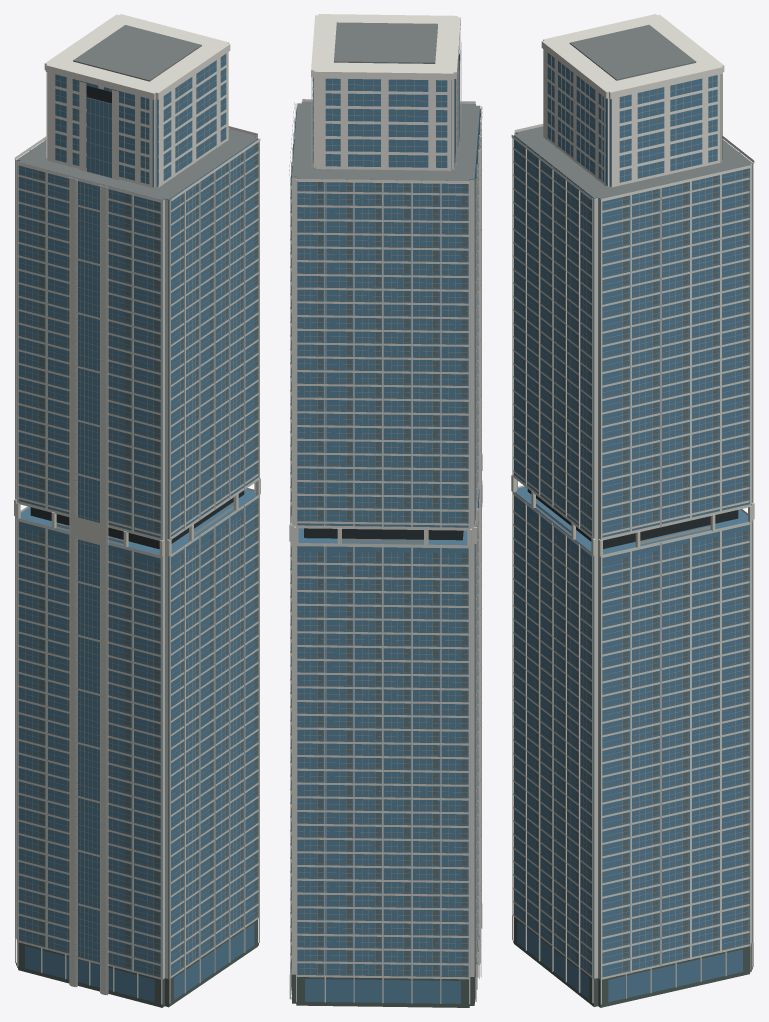
Rendered from bespoke-tower-palace-b.glb.
3 views of the same model, side by side, from view 1: azimuth 30°, elevation 25°; view 2: azimuth 150°, elevation 25°; view 3: azimuth 270°, elevation 25° (orthographic). The views are drawn at different scales.
Parts seen in each view (by area): view 1: B_03_individual_bank_glazing_1, B_04_paired_column_axes_1, B_02_pale_horizontal_bands, B_01_rectangular_bank_massing_1, B_03_individual_bank_glazing_2, B_03_individual_bank_glazing_3, B_03_individual_bank_glazing_4, B_06_occupied_setback_penthouse_1, B_06_occupied_setback_penthouse_4, B_07_flat_cornice_and_roof_2, B_04_paired_column_axes_3, B_07_flat_cornice_and_roof_1 (+4 smaller); view 2: B_03_individual_bank_glazing_1, B_02_pale_horizontal_bands, B_01_rectangular_bank_massing_1, B_04_paired_column_axes_1, B_03_individual_bank_glazing_3, B_03_individual_bank_glazing_4, B_03_individual_bank_glazing_2, B_07_flat_cornice_and_roof_2, B_06_occupied_setback_penthouse_1, B_06_occupied_setback_penthouse_4, B_07_flat_cornice_and_roof_1, B_05_open_middle_gallery_1 (+4 smaller); view 3: B_03_individual_bank_glazing_1, B_02_pale_horizontal_bands, B_01_rectangular_bank_massing_1, B_04_paired_column_axes_1, B_03_individual_bank_glazing_3, B_03_individual_bank_glazing_4, B_03_individual_bank_glazing_2, B_06_occupied_setback_penthouse_1, B_06_occupied_setback_penthouse_4, B_07_flat_cornice_and_roof_2, B_07_flat_cornice_and_roof_1, B_05_open_middle_gallery_1 (+3 smaller).
Boxes of the visible parts, <box> form: B_03_individual_bank_glazing_1: <box>19,143,257,1001</box>; B_04_paired_column_axes_1: <box>15,128,259,1004</box>; B_02_pale_horizontal_bands: <box>18,151,258,979</box>; B_01_rectangular_bank_massing_1: <box>17,136,257,978</box>; B_03_individual_bank_glazing_2: <box>19,142,257,975</box>; B_03_individual_bank_glazing_3: <box>39,143,257,974</box>; B_03_individual_bank_glazing_4: <box>19,149,257,976</box>; B_06_occupied_setback_penthouse_1: <box>55,54,226,187</box>; B_06_occupied_setback_penthouse_4: <box>46,52,228,187</box>; B_07_flat_cornice_and_roof_2: <box>17,25,257,199</box>; B_04_paired_column_axes_3: <box>69,177,108,995</box>; B_07_flat_cornice_and_roof_1: <box>14,14,260,202</box>; B_03_individual_bank_glazing_1: <box>291,108,480,1003</box>; B_02_pale_horizontal_bands: <box>290,119,481,979</box>; B_01_rectangular_bank_massing_1: <box>292,104,479,977</box>; B_04_paired_column_axes_1: <box>289,101,482,1004</box>; B_03_individual_bank_glazing_3: <box>291,108,480,974</box>; B_03_individual_bank_glazing_4: <box>298,130,479,976</box>; B_03_individual_bank_glazing_2: <box>293,140,480,976</box>; B_07_flat_cornice_and_roof_2: <box>292,22,479,180</box>; B_06_occupied_setback_penthouse_1: <box>313,49,459,169</box>; B_06_occupied_setback_penthouse_4: <box>311,35,461,170</box>; B_07_flat_cornice_and_roof_1: <box>289,14,482,183</box>; B_05_open_middle_gallery_1: <box>289,453,482,548</box>; B_03_individual_bank_glazing_1: <box>514,136,748,1002</box>; B_02_pale_horizontal_bands: <box>513,147,749,979</box>; B_01_rectangular_bank_massing_1: <box>514,132,751,978</box>; B_04_paired_column_axes_1: <box>512,131,753,1004</box>; B_03_individual_bank_glazing_3: <box>523,146,747,973</box>; B_03_individual_bank_glazing_4: <box>514,146,748,976</box>; B_03_individual_bank_glazing_2: <box>514,142,748,972</box>; B_06_occupied_setback_penthouse_1: <box>547,53,717,186</box>; B_06_occupied_setback_penthouse_4: <box>543,49,722,187</box>; B_07_flat_cornice_and_roof_2: <box>514,24,751,198</box>; B_07_flat_cornice_and_roof_1: <box>511,14,754,201</box>; B_05_open_middle_gallery_1: <box>511,474,754,557</box>.
Bounding box in the file's own units: 57.1 × 234 × 56.99.
